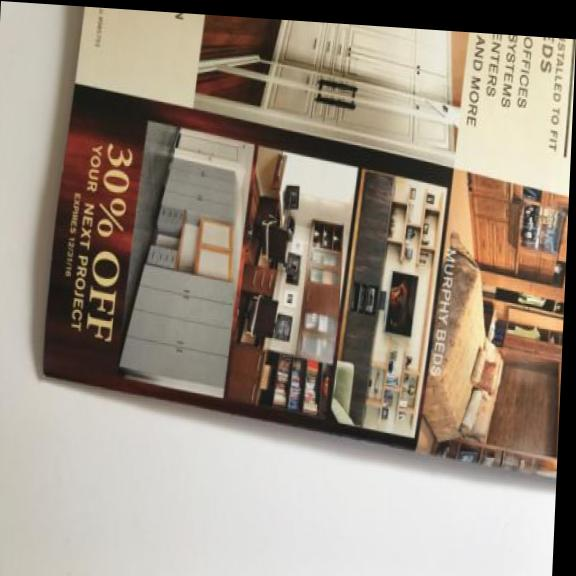Kertas: (30, 4, 576, 496)
